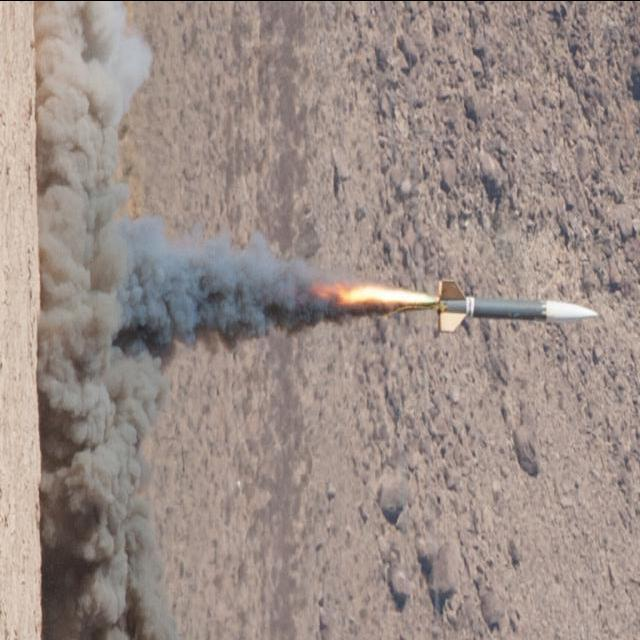missile: (416, 274, 603, 352)
